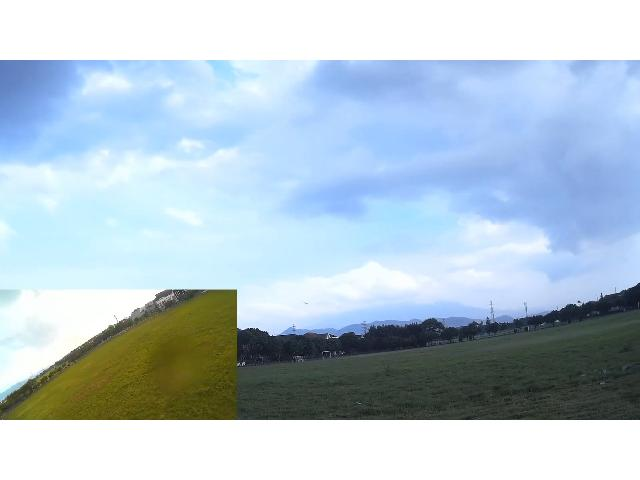Anti-Drone: (292, 299, 316, 310)
